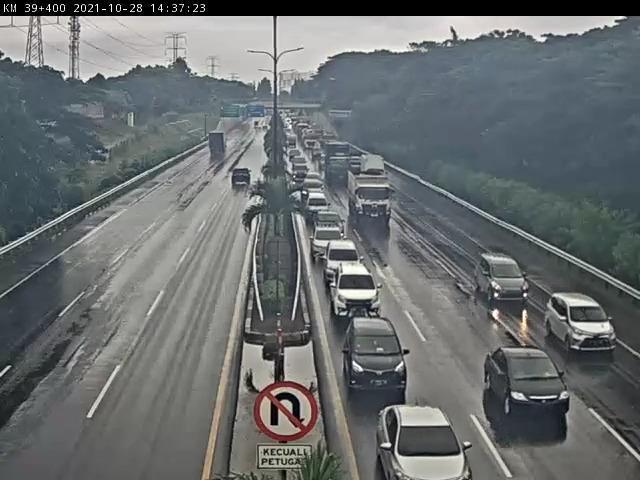car: (381, 407, 470, 480), (343, 312, 407, 390), (472, 336, 552, 396), (548, 295, 624, 356), (478, 253, 536, 306), (330, 268, 378, 319), (323, 239, 367, 279), (308, 224, 350, 260), (314, 210, 345, 237), (306, 191, 333, 217), (301, 177, 326, 198), (232, 168, 255, 190), (293, 161, 311, 179), (293, 154, 307, 165)
truck: (347, 175, 392, 224), (323, 141, 352, 178), (359, 155, 387, 184), (207, 134, 228, 156)
